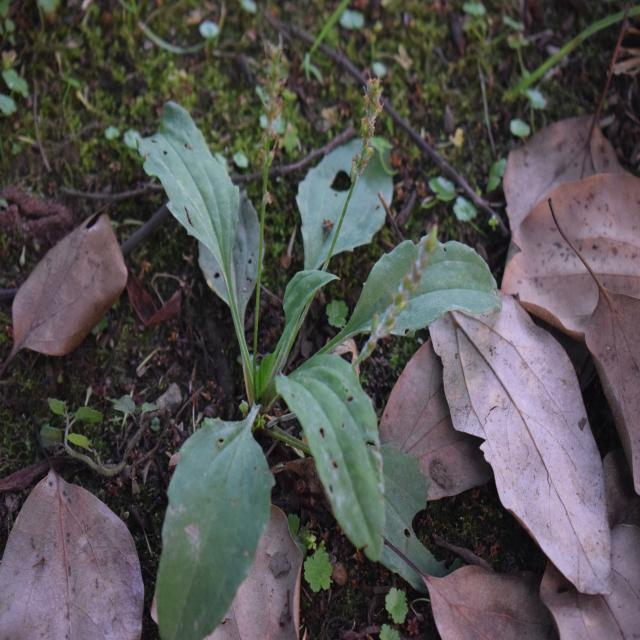plantain: (154, 82, 470, 594)
